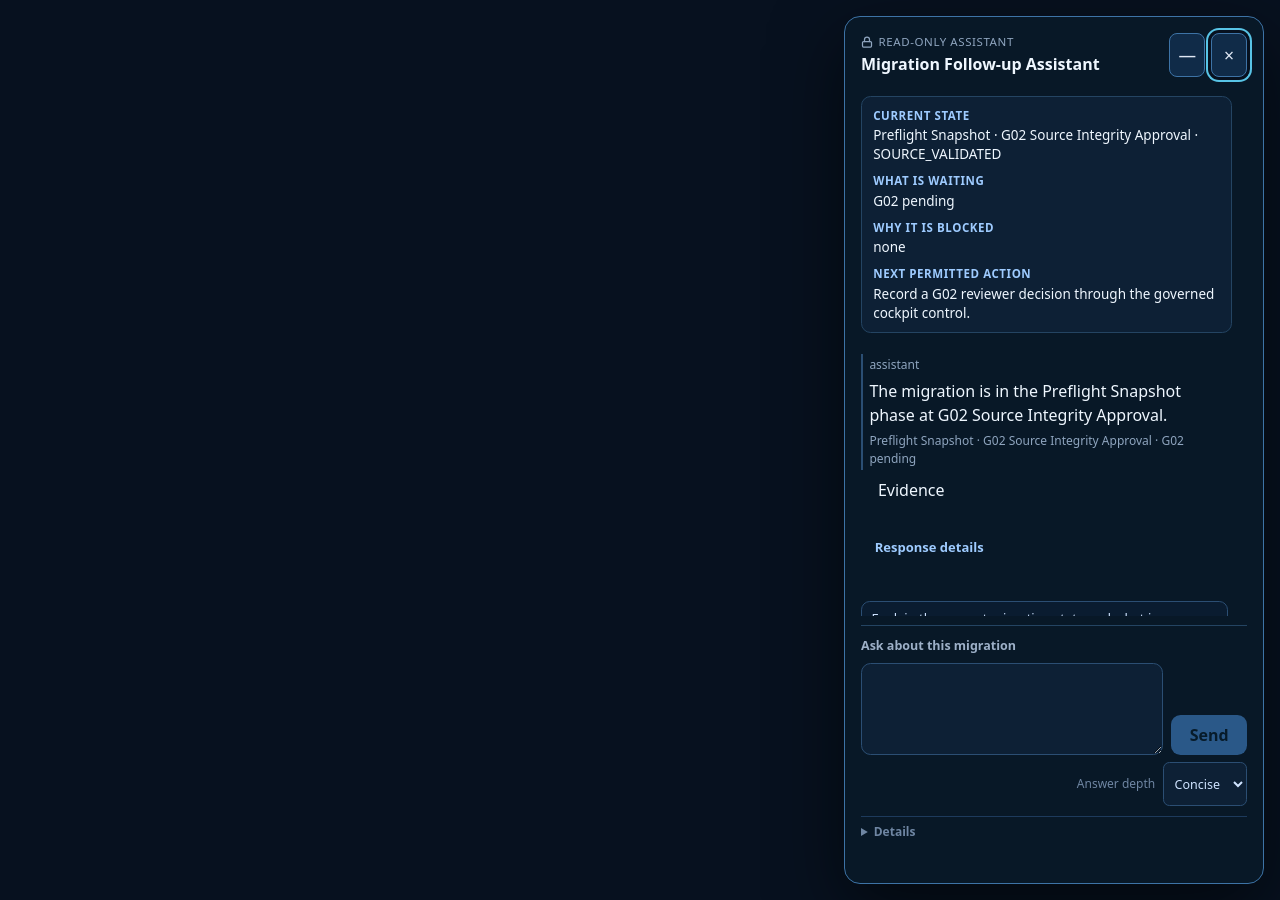
Test: AssistantPanel authoritative rendering › restores the floating dock state without putting the Assistant in navigation
Expected: the dialog "Migration Follow-up Assistant" is shown, [844,16,1264,884]
Expected: the number of headings "Migration Follow-up Assistant" is 1, [861,52,1100,76]
Click the button named "Close Assistant": x=1229, y=55 [1211,33,1247,77]
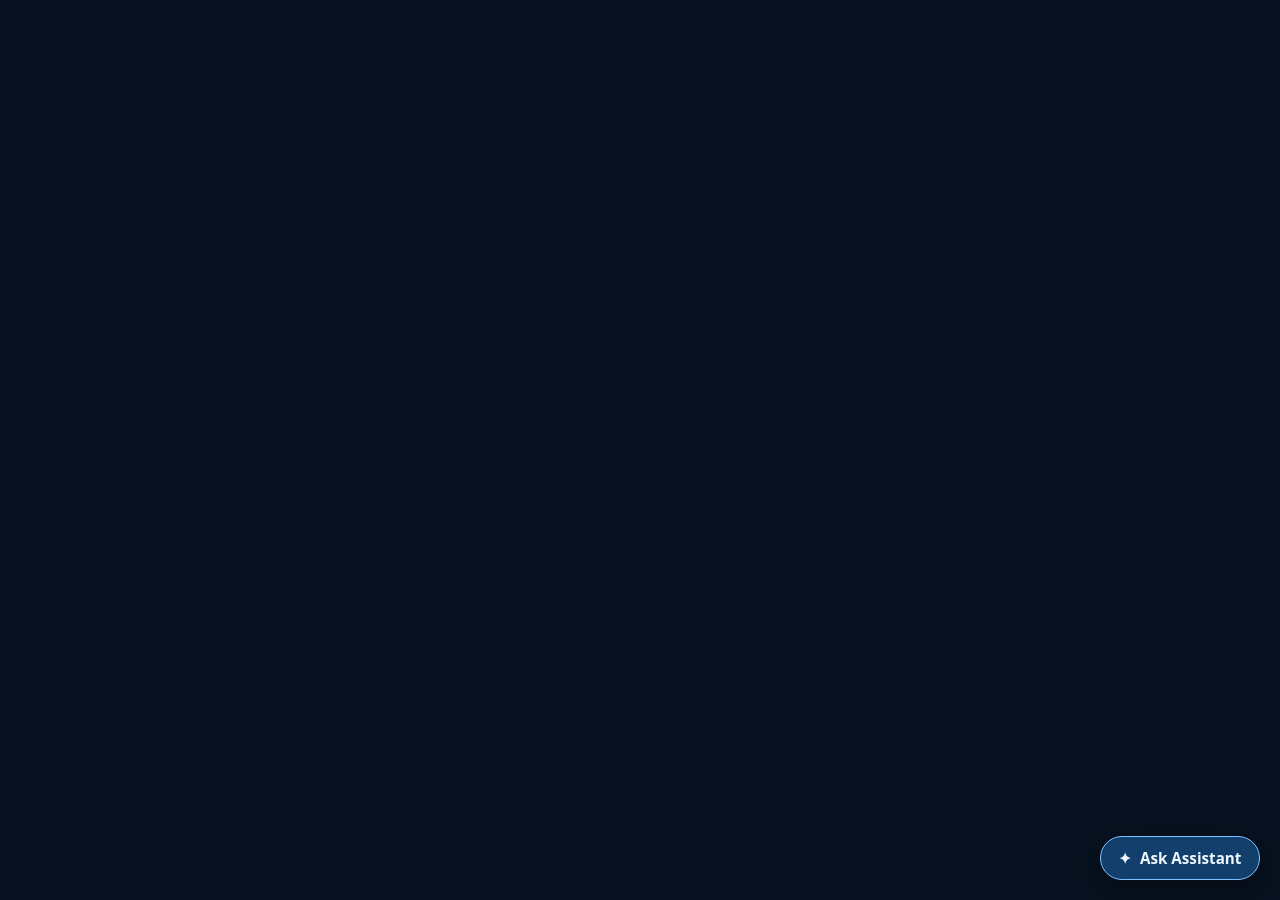
Expected: the button with aria-label "Open Assistant" is shown, [1100,836,1260,880]
